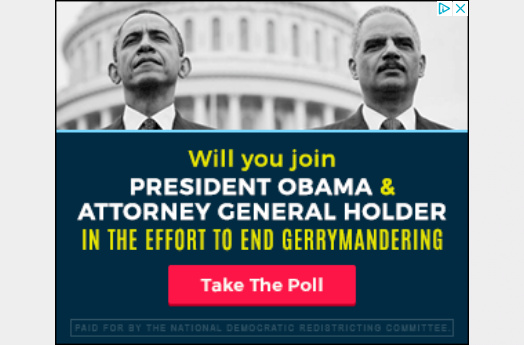fake_button: (164, 260, 364, 309), (432, 1, 469, 23)
